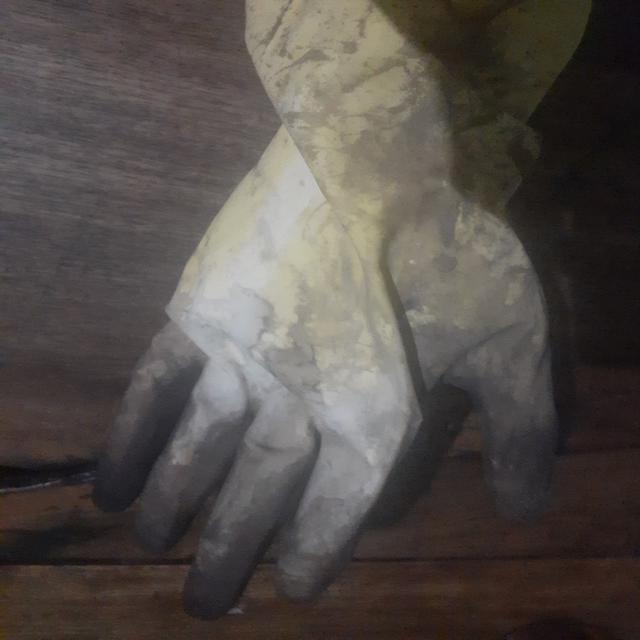gloved_hand: (80, 10, 570, 630)
